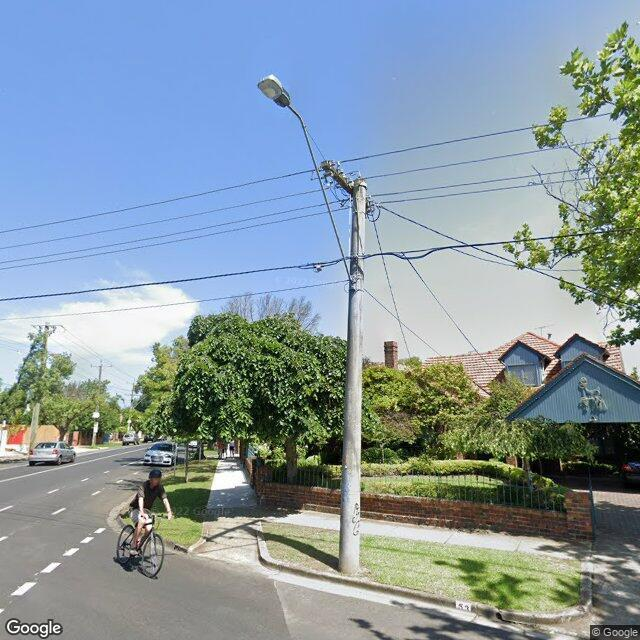concrete-pole: (338, 179, 366, 575)
crossarm: (320, 160, 370, 213), (32, 324, 63, 326), (90, 366, 112, 368)
streetlight: (257, 74, 356, 290)
timber-pole: (30, 322, 49, 450), (92, 359, 102, 447)
